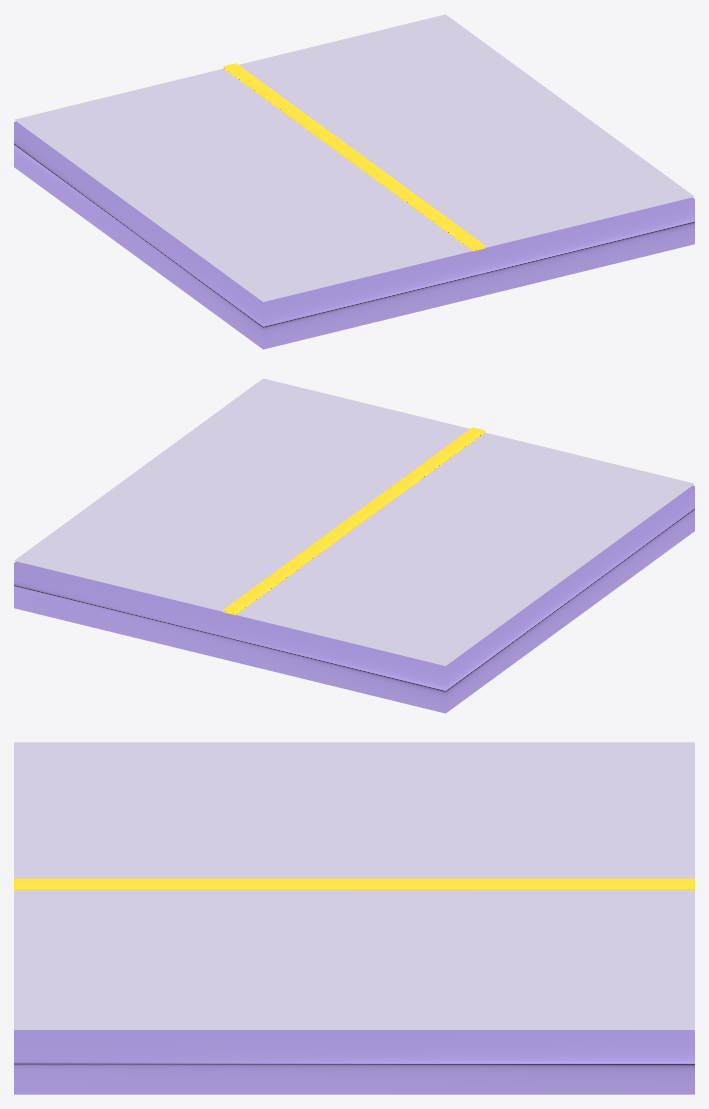
The model's file is runway_mid.glb.
3 renders of one model, top to bottom at view 1: azimuth 30°, elevation 25°; view 2: azimuth 150°, elevation 25°; view 3: azimuth 270°, elevation 25°, orthographic. The views are drawn at different scales.
Visible parts, largest first — view 1: Deck, Inlay; view 2: Deck, Inlay; view 3: Deck, Inlay.
Boxes of the visible parts, x1,y1,x2,y2 form: Deck: (14,14,694,349); Inlay: (223,63,485,251); Deck: (14,378,694,713); Inlay: (223,427,485,615); Deck: (14,742,694,1094); Inlay: (14,878,694,890).
Size of the model in its own units: 1 by 0.11 by 1.
